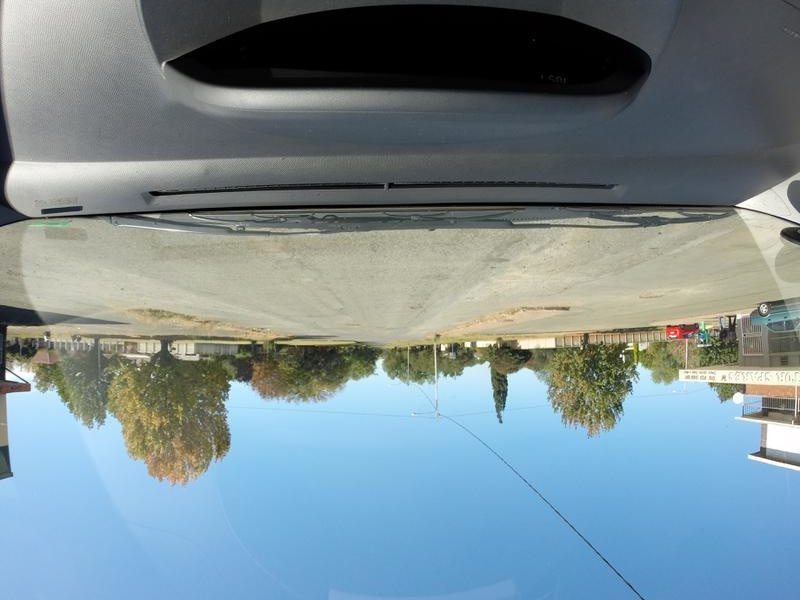pothole: (629, 283, 674, 306), (332, 319, 355, 333)
